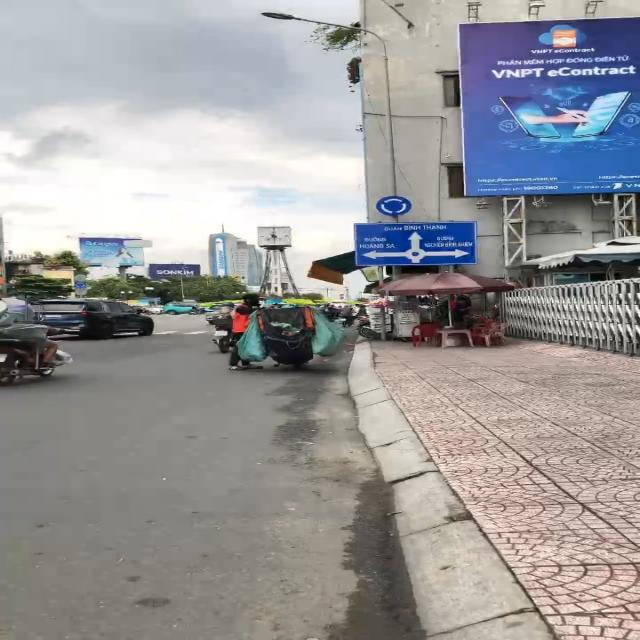Bien bao noi giao nhau chay theo vong xuyen: (372, 193, 413, 217)
